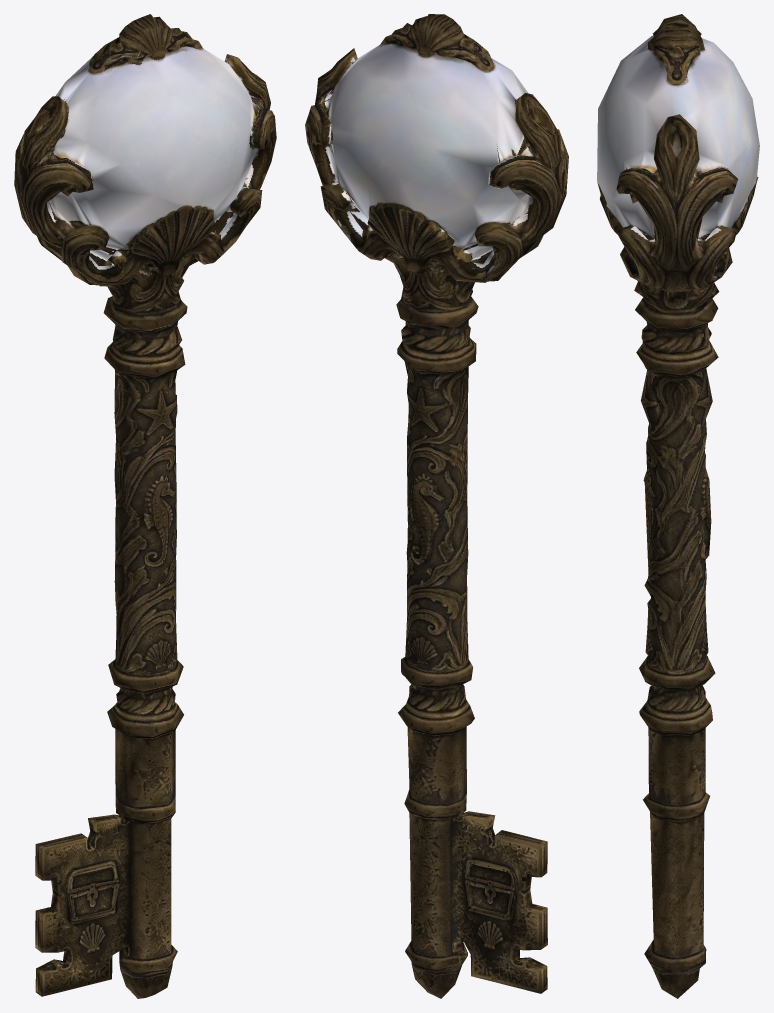
File: pearl-key.glb
3 renders of one model, left to right at view 1: azimuth 30°, elevation 25°; view 2: azimuth 150°, elevation 25°; view 3: azimuth 270°, elevation 25°, orthographic.
Parts seen in each view (by area): view 1: Model; view 2: Model; view 3: Model.
Boxes of the visible parts, box(x1,y1,x2,y2) form: Model: box(14, 14, 276, 998); Model: box(305, 14, 568, 998); Model: box(597, 14, 759, 998).
Bounding box in the file's own units: 0.5077 × 1.9 × 0.2869.
Materials: 1 (1 with a texture image).
